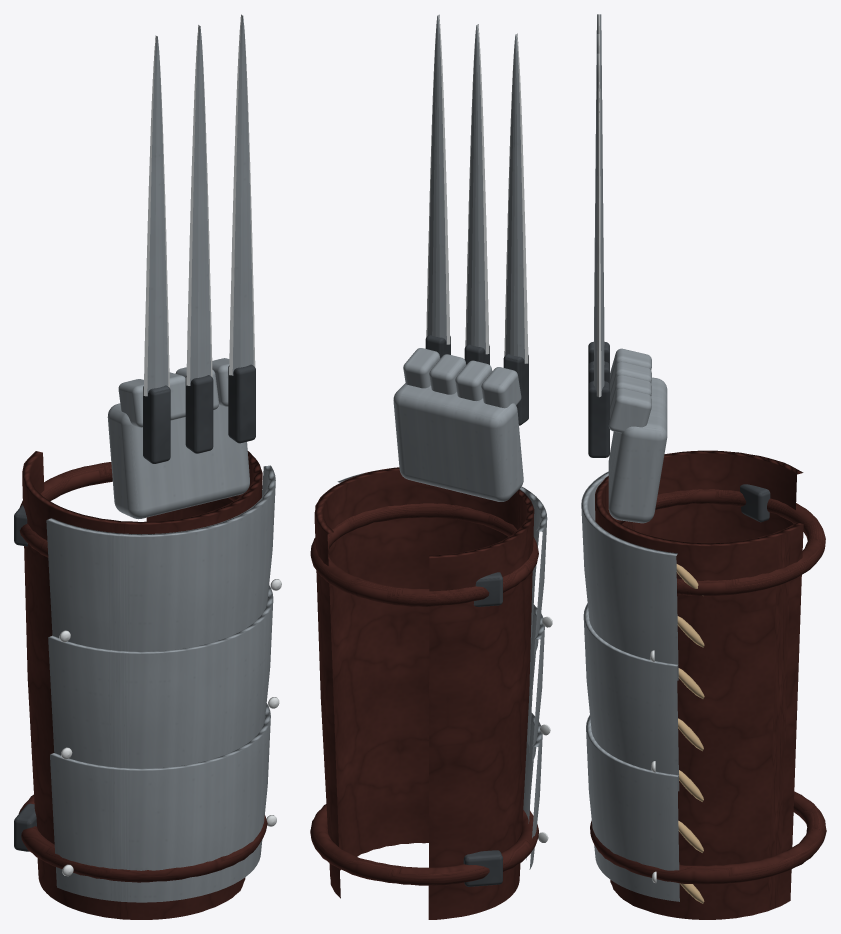
Rendered from talons.glb.
The picture shows the model from 3 angles, left to right: view 1: azimuth 30°, elevation 25°; view 2: azimuth 150°, elevation 25°; view 3: azimuth 270°, elevation 25°; orthographic projection. The views are drawn at different scales.
Parts seen in each view (by area): view 1: steel / forged blade steel, leather / oiled leather wrap, darksteel / oil-blackened fittings, edge / honed bright bevel; view 2: leather / oiled leather wrap, steel / forged blade steel, edge / honed bright bevel, darksteel / oil-blackened fittings; view 3: leather / oiled leather wrap, steel / forged blade steel, darksteel / oil-blackened fittings, thread loop, edge / honed bright bevel.
Boxes of the visible parts, x1=… form: steel / forged blade steel: x1=46, y1=14, x2=275, y2=902; leather / oiled leather wrap: x1=18, y1=451, x2=267, y2=919; darksteel / oil-blackened fittings: x1=14, y1=364, x2=255, y2=851; edge / honed bright bevel: x1=59, y1=15, x2=281, y2=876; leather / oiled leather wrap: x1=310, y1=467, x2=538, y2=919; steel / forged blade steel: x1=337, y1=14, x2=547, y2=869; edge / honed bright bevel: x1=426, y1=15, x2=552, y2=842; darksteel / oil-blackened fittings: x1=425, y1=335, x2=528, y2=886; leather / oiled leather wrap: x1=590, y1=450, x2=826, y2=919; steel / forged blade steel: x1=581, y1=14, x2=679, y2=901; darksteel / oil-blackened fittings: x1=588, y1=342, x2=770, y2=522; thread loop: x1=676, y1=564, x2=704, y2=903; edge / honed bright bevel: x1=597, y1=14, x2=656, y2=883.
Size of the model in its own units: 0.1579 by 0.6 by 0.158.
Materials: 6 (4 with a texture image).
